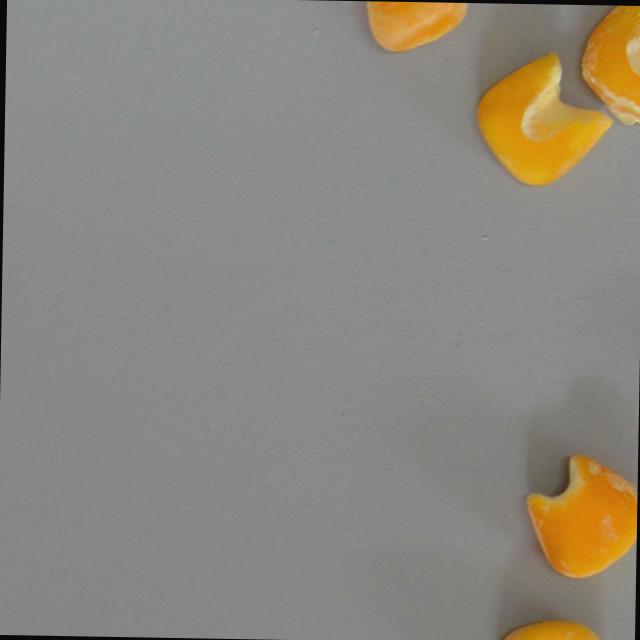entero: (361, 1, 467, 53)
no_canjicado: (474, 50, 616, 188)
pelicula: (525, 451, 638, 577), (577, 4, 640, 125), (495, 618, 605, 640)
